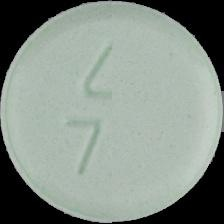0179-1435: (0, 0, 224, 224)
